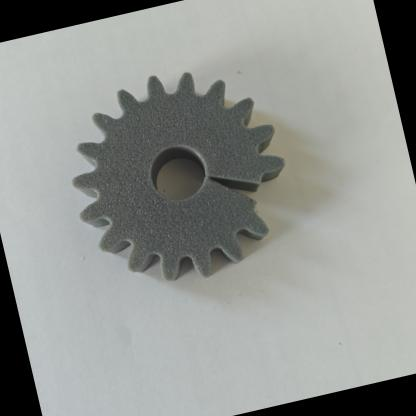defect: (183, 134, 302, 244)
gear: (42, 31, 334, 328)
